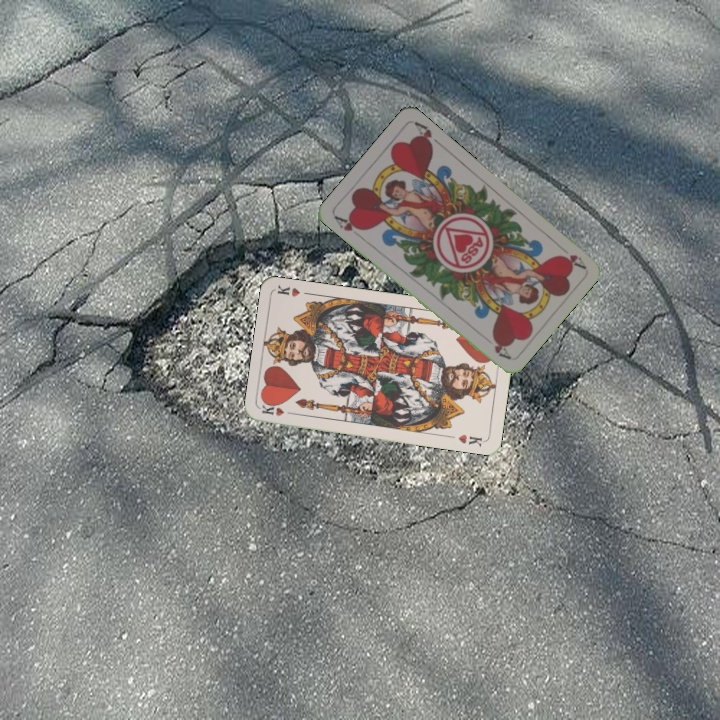HA: (330, 211, 367, 241), (555, 250, 588, 271)
HK: (258, 400, 299, 419)
